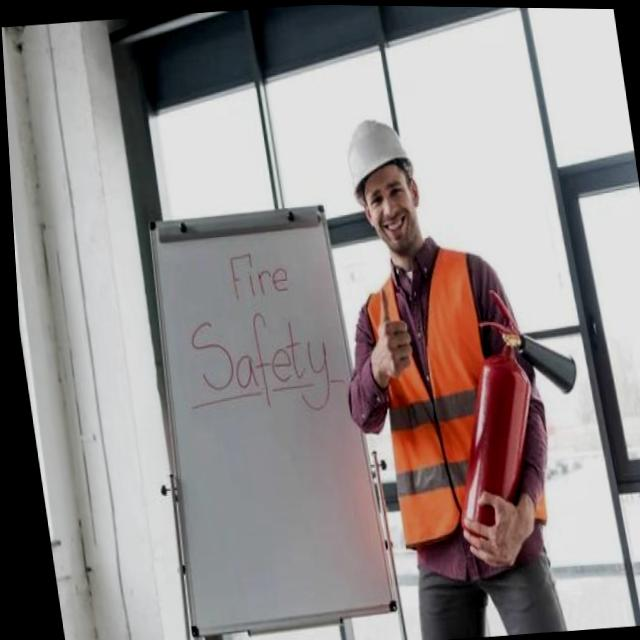FireExtinguisher: (418, 273, 600, 563)
